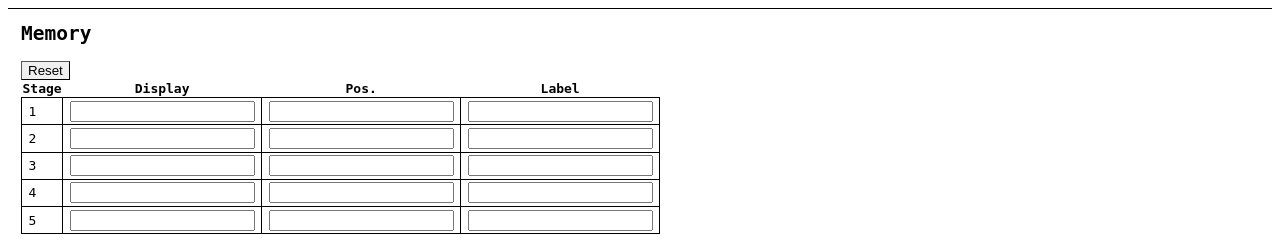
Test case: MemoryModule › auto-fills position or label when display is entered for stage 1
In the field named "Stage 1 display": (162, 111) x1=70 y1=101 x2=255 y2=122, type "1"
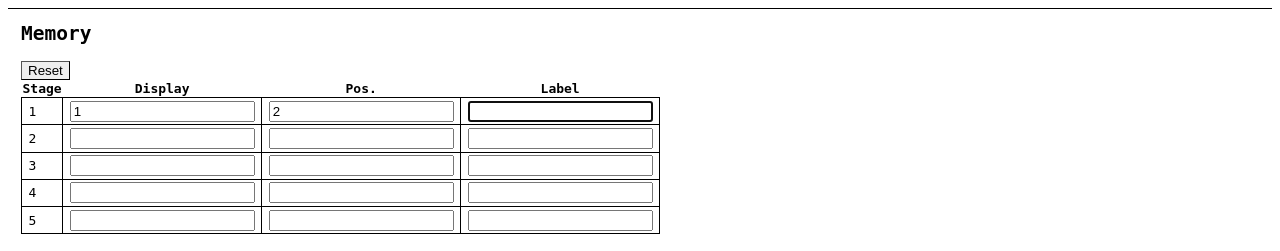
Expected: the field named "Stage 1 position" holds "2", x1=269 y1=101 x2=454 y2=122
